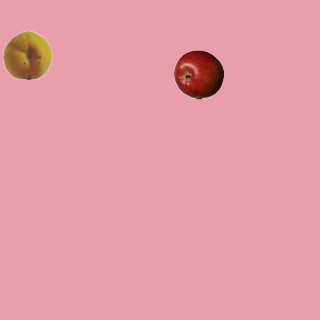Apple Braeburn: (173, 49, 223, 99)
Peach 2: (2, 29, 52, 79)
